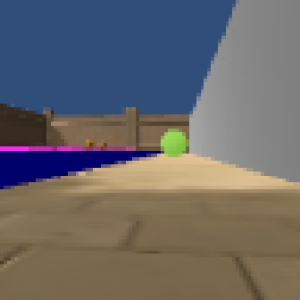goodGoal: (159, 129, 189, 160)
goodGoalMulti: (87, 138, 96, 149), (100, 140, 109, 150)
platform: (1, 150, 163, 186)
ramp: (1, 144, 92, 154)
wall: (186, 1, 300, 187)
